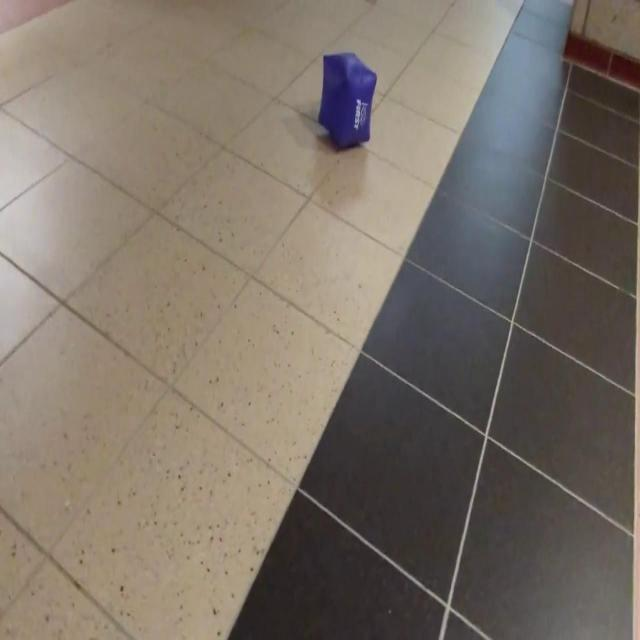frc_cube: (317, 54, 378, 148)
